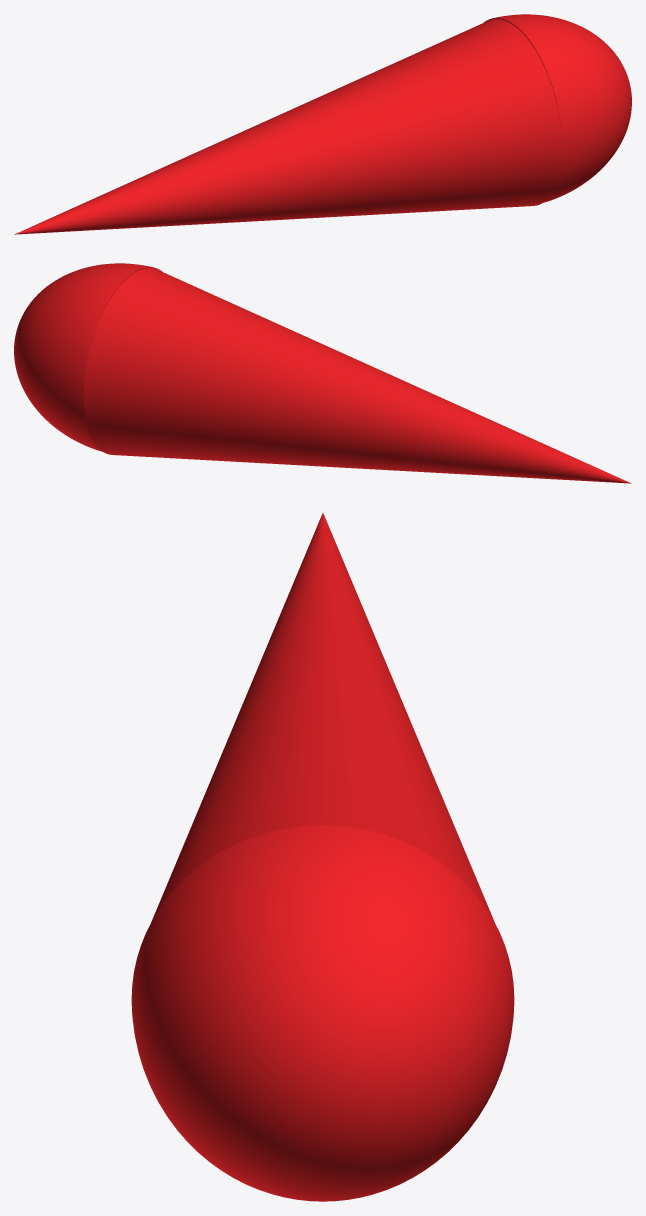
3 renders of one model, top to bottom at view 1: azimuth 30°, elevation 25°; view 2: azimuth 150°, elevation 25°; view 3: azimuth 270°, elevation 25°, orthographic. The views are drawn at different scales.
Parts seen in each view (by area): view 1: root (×2); view 2: root (×2); view 3: root (×2).
Boxes of the visible parts, box(x1,y1,x2,y2) form: root (×2): box(14, 14, 631, 234); root (×2): box(14, 263, 631, 483); root (×2): box(131, 513, 514, 1201).
Bounding box in the file's own units: 0.7574 × 0.2078 × 0.2066.
2 materials, 2 textured.
